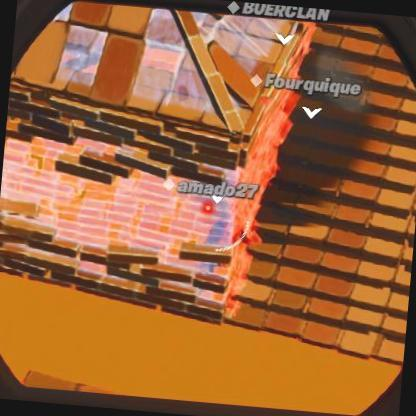person: (198, 194, 230, 280)
